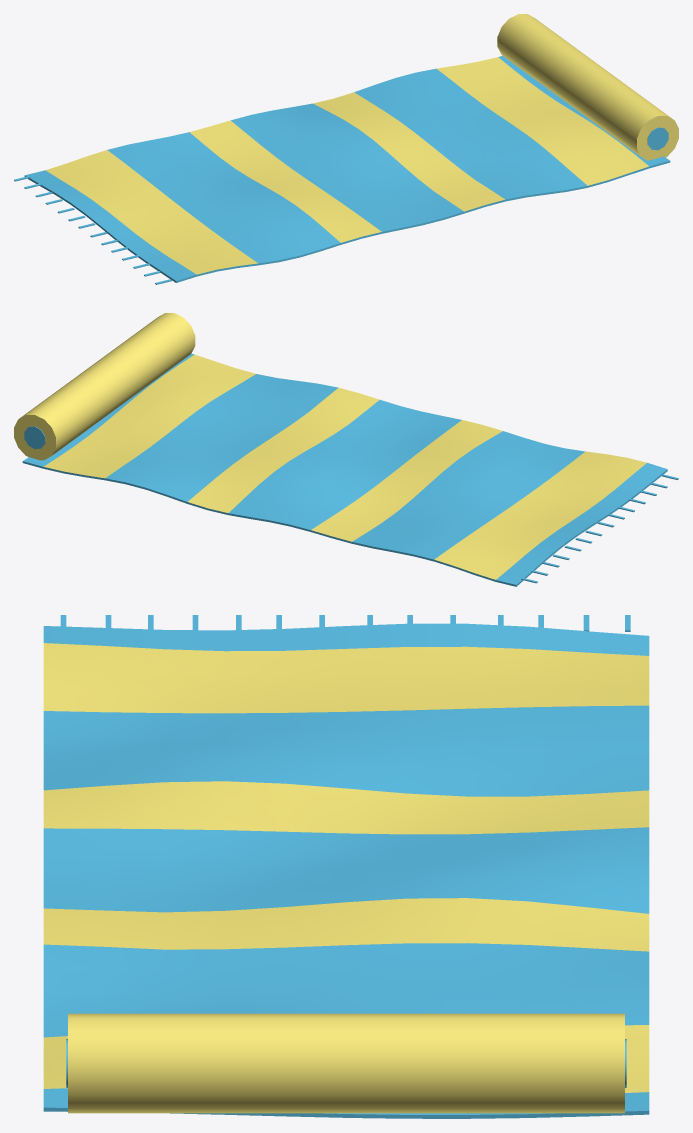
The model's file is prop_towel.glb.
3 renders of one model, top to bottom at view 1: azimuth 30°, elevation 25°; view 2: azimuth 150°, elevation 25°; view 3: azimuth 270°, elevation 25°, orthographic. The views are drawn at different scales.
Parts seen in each view (by area): view 1: Towel; view 2: Towel; view 3: Towel.
Boxes of the visible parts, left/top/right/bottom form: Towel: left=14, top=14, right=678, bottom=284; Towel: left=14, top=313, right=678, bottom=586; Towel: left=43, top=615, right=649, bottom=1118.
Size of the model in its own units: 1.7 by 0.1514 by 0.85.
